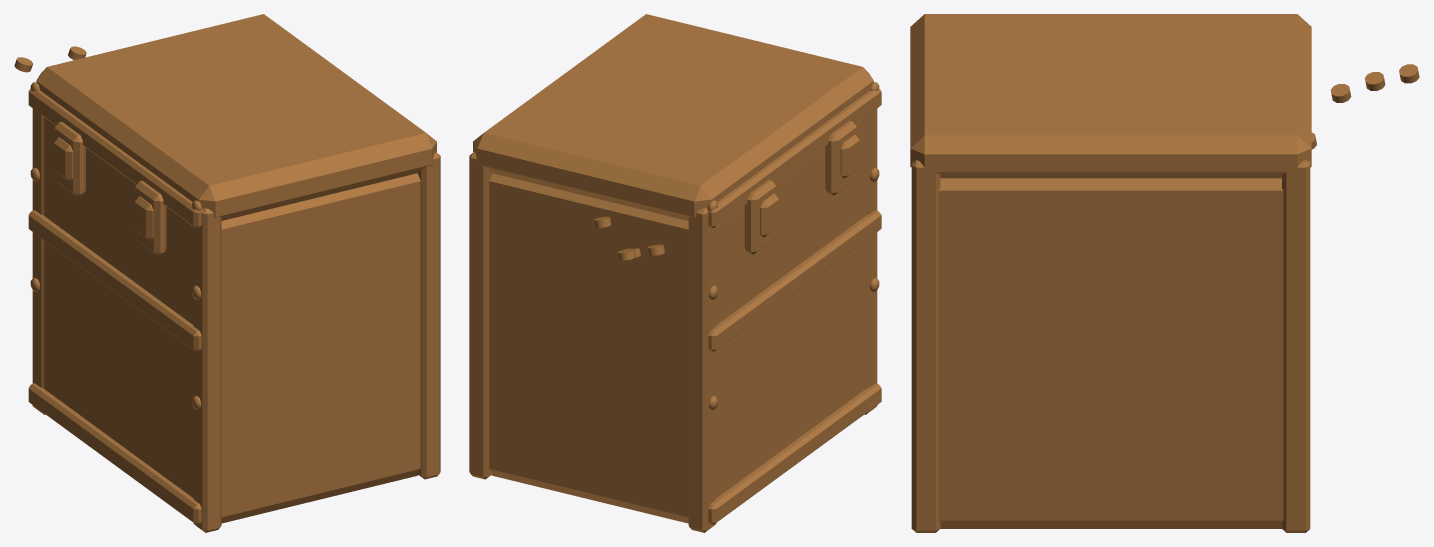
File: SM_Menu_TravelChest.fbx
The picture shows the model from 3 angles, left to right: view 1: azimuth 30°, elevation 25°; view 2: azimuth 150°, elevation 25°; view 3: azimuth 270°, elevation 25°; orthographic projection. The views are drawn at different scales.
Visible parts, largest first — view 1: SM_Menu_TravelChest; view 2: SM_Menu_TravelChest; view 3: SM_Menu_TravelChest.
Boxes of the visible parts, x1=… form: SM_Menu_TravelChest: x1=14, y1=14, x2=440, y2=532; SM_Menu_TravelChest: x1=469, y1=14, x2=881, y2=532; SM_Menu_TravelChest: x1=910, y1=14, x2=1419, y2=532.
Size of the model in its own units: 120 by 179 by 154.
